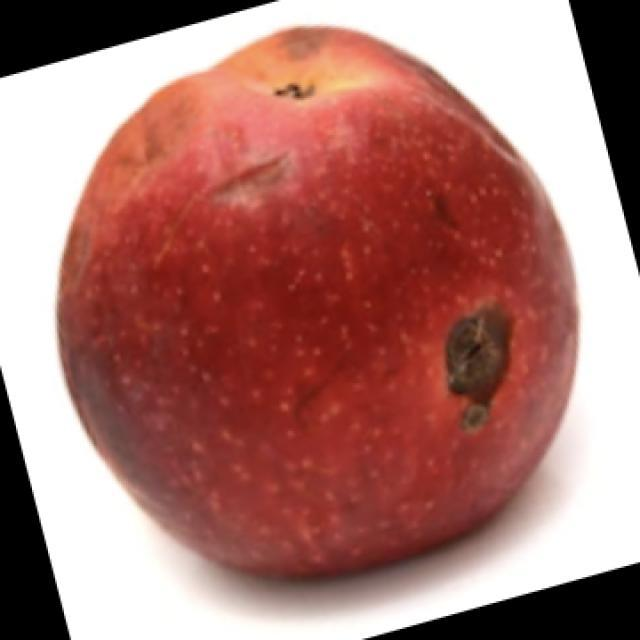Rotten: (84, 24, 564, 584)
